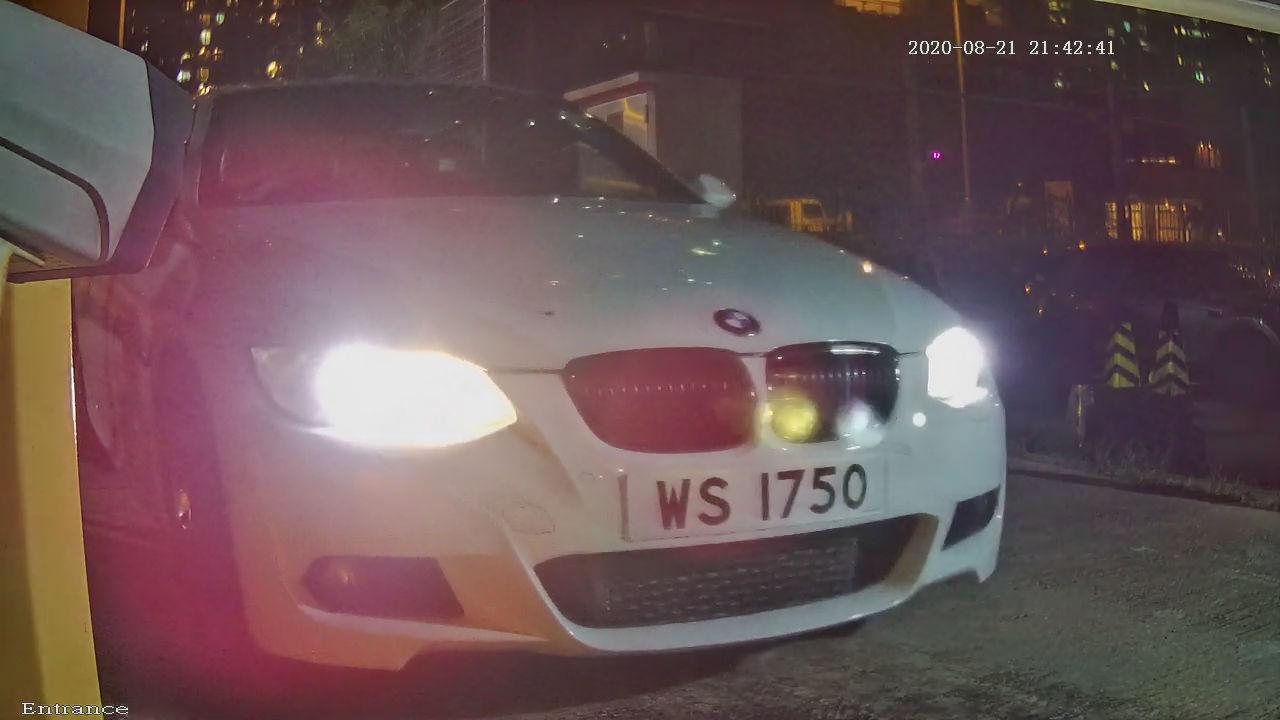Car: (1, 26, 1166, 720)
License Plate: (589, 422, 909, 573)
